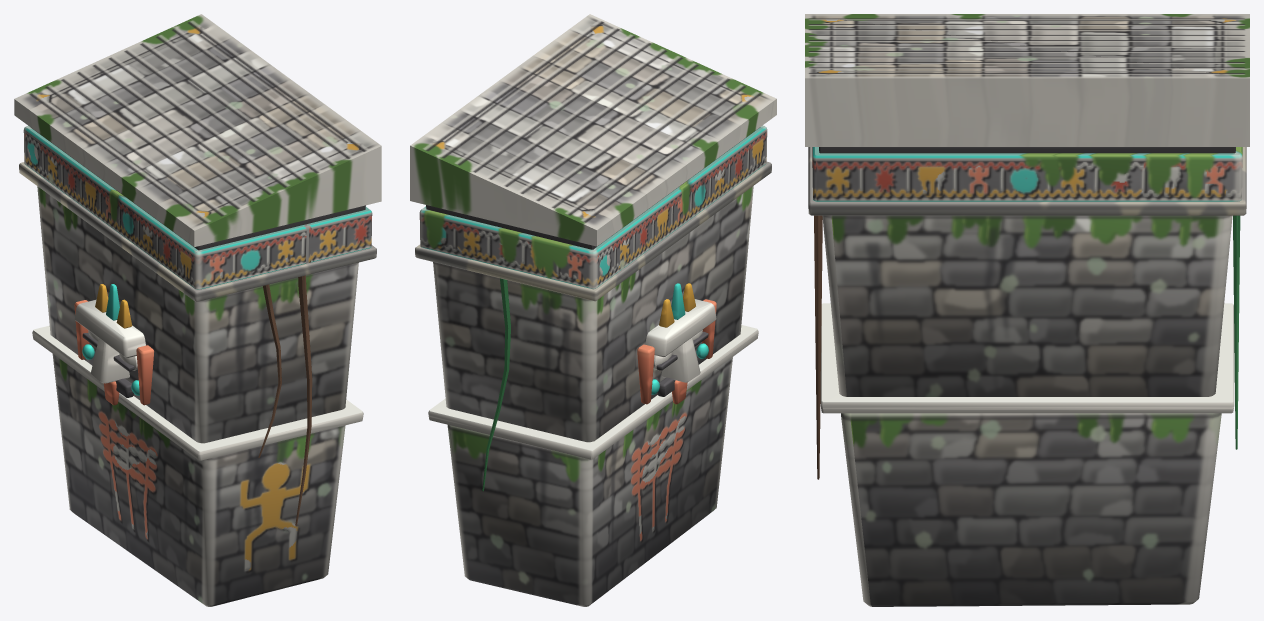
The model's file is stair_W.glb.
The picture shows the model from 3 angles, left to right: view 1: azimuth 30°, elevation 25°; view 2: azimuth 150°, elevation 25°; view 3: azimuth 270°, elevation 25°; orthographic projection. The views are drawn at different scales.
Parts seen in each view (by area): view 1: stair_W.001; view 2: stair_W.001; view 3: stair_W.001.
Boxes of the visible parts, x1,y1,x2,y2 form: stair_W.001: (14, 14, 381, 606); stair_W.001: (410, 14, 776, 606); stair_W.001: (805, 14, 1249, 606).
Size of the model in its own units: 6.28 by 13.6 by 10.
Materials: 1 (1 with a texture image).
